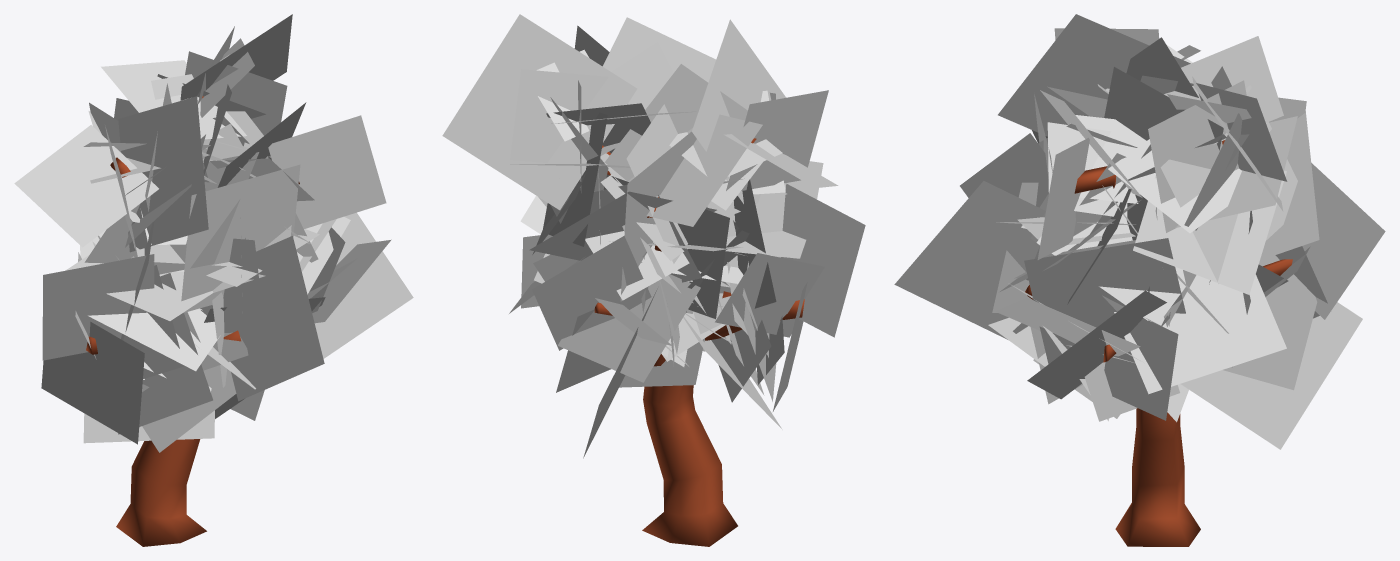
Rendered from tree.fbx.
The picture shows the model from 3 angles, left to right: view 1: azimuth 30°, elevation 25°; view 2: azimuth 150°, elevation 25°; view 3: azimuth 270°, elevation 25°; orthographic projection. The views are drawn at different scales.
Parts seen in each view (by area): view 1: Leaves, Wood; view 2: Leaves, Wood; view 3: Leaves, Wood.
Boxes of the visible parts, left/top/right/bottom form: Leaves: left=14, top=14, right=413, bottom=452; Wood: left=86, top=96, right=299, bottom=546; Leaves: left=442, top=14, right=865, bottom=458; Wood: left=594, top=138, right=804, bottom=546; Leaves: left=894, top=14, right=1385, bottom=449; Wood: left=1025, top=140, right=1292, bottom=546.
Bounding box in the file's own units: 1319 × 1750 × 1491.
